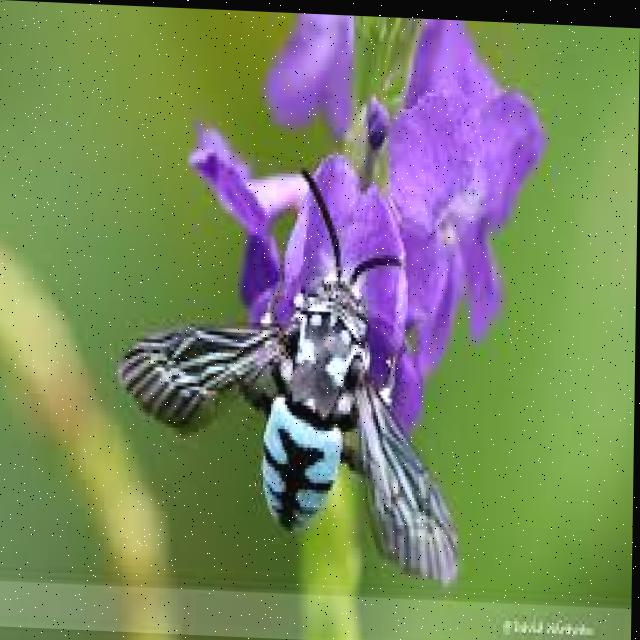Thyreus: (117, 196, 462, 568)
